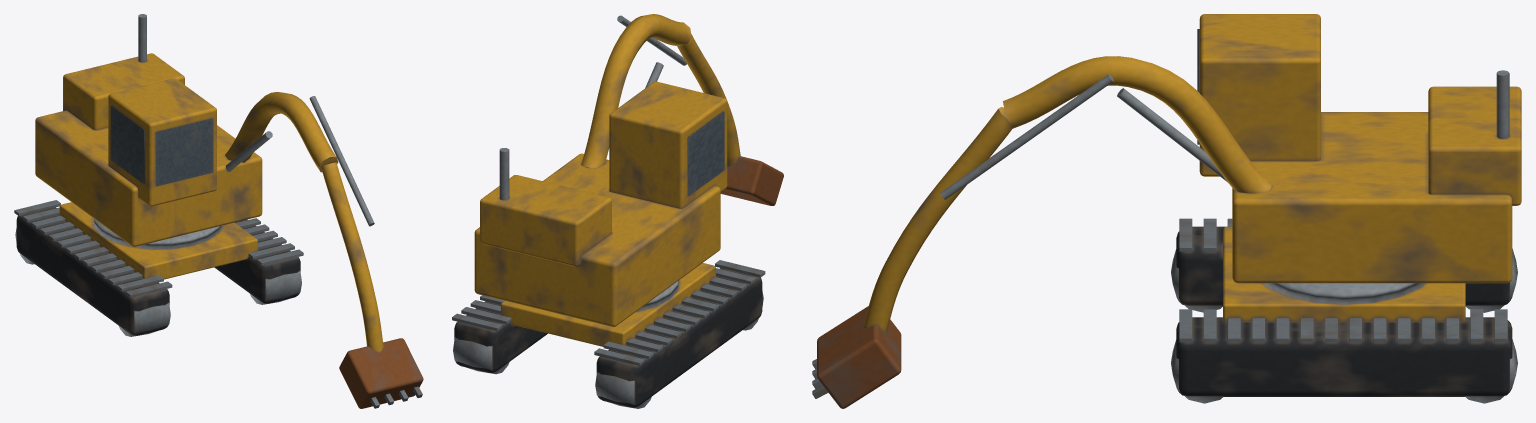
The model's file is wysypisko_koparka.glb.
3 renders of one model, left to right at view 1: azimuth 30°, elevation 25°; view 2: azimuth 150°, elevation 25°; view 3: azimuth 270°, elevation 25°, orthographic. The views are drawn at different scales.
Visible parts, largest first — view 1: Koparka; view 2: Koparka; view 3: Koparka.
Part boxes in pixels (x1,y1,x2,y2): Koparka: (14, 14, 423, 408); Koparka: (452, 14, 783, 408); Koparka: (812, 14, 1521, 408).
Size of the model in its own units: 3.04 by 3.95 by 7.6.
Materials: 1 (1 with a texture image).
